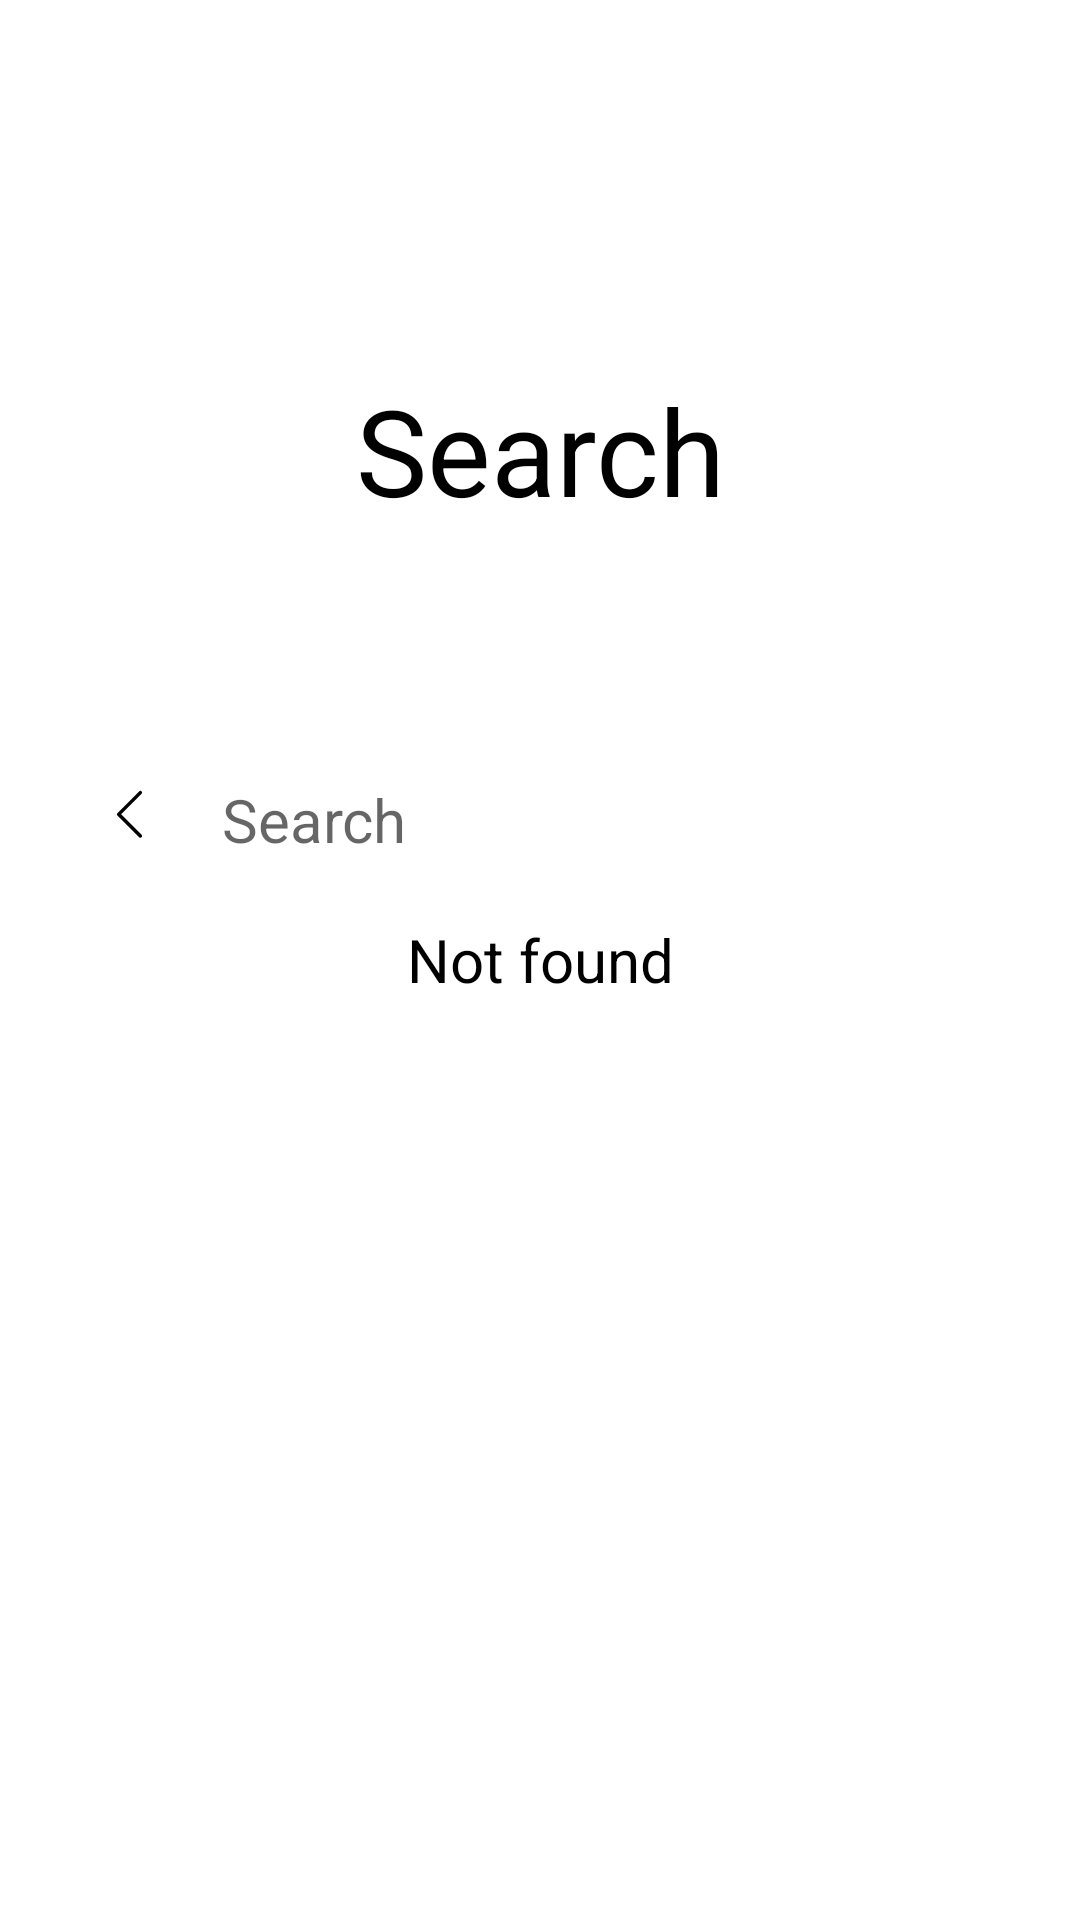

Screen size 1080×1920. Icon name, then its box in pixels as (x1, y1, x2, y2):
navigation arrow back: (117, 790, 142, 838)
